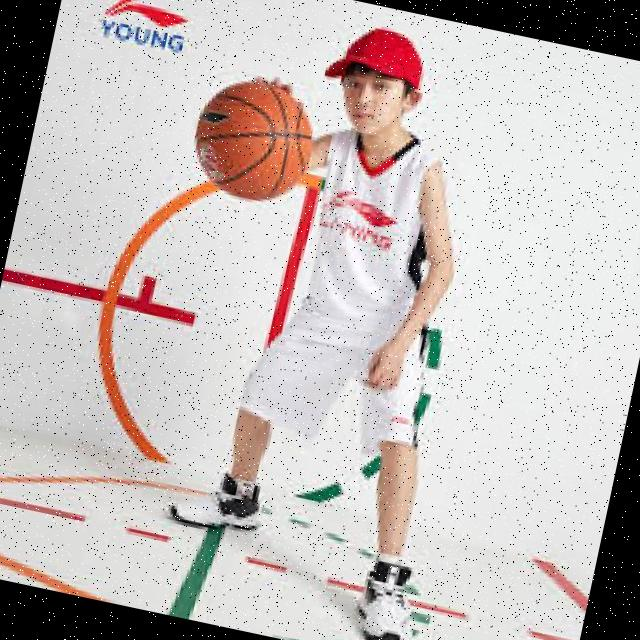ball: (187, 73, 321, 208)
